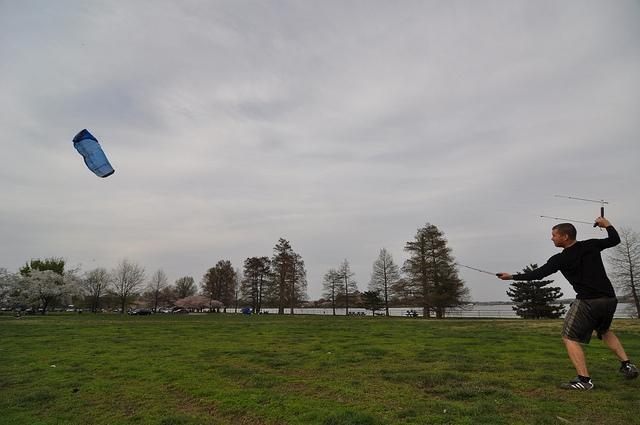car: (130, 308, 154, 316), (173, 308, 189, 314), (66, 305, 74, 312), (165, 308, 172, 312)
